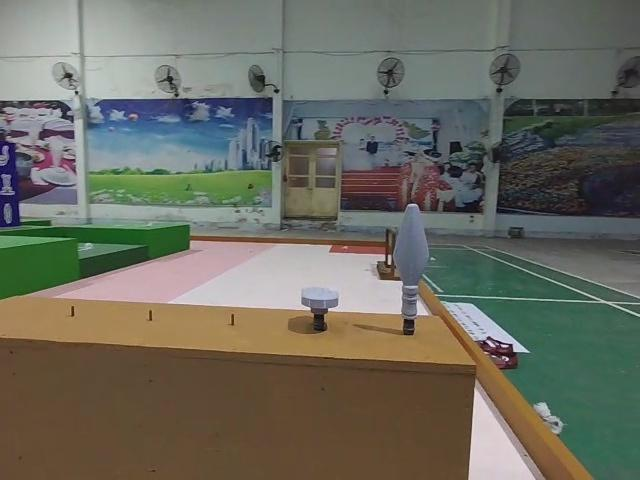Hand: (301, 286, 343, 331)
Sph: (396, 201, 431, 338)
